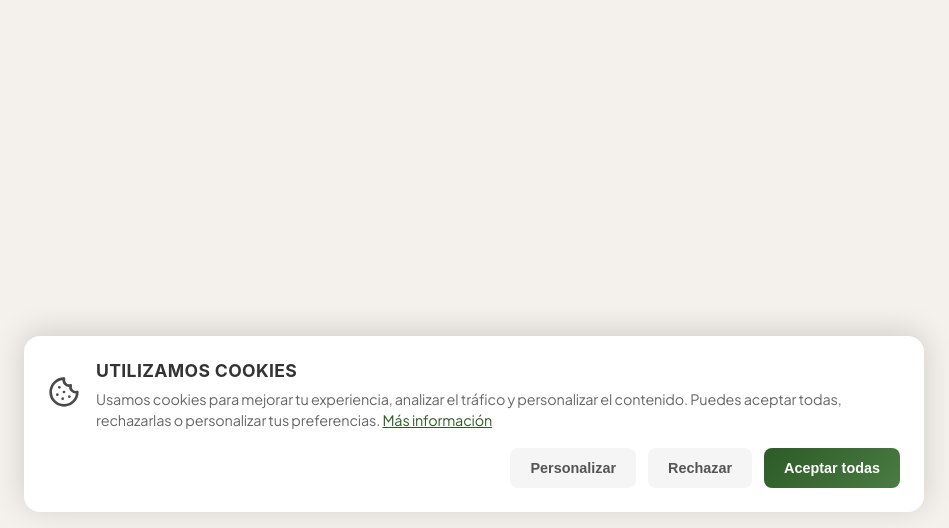
Test case: CookieBanner › shows preferences panel when customize is clicked
Click the button "Personalizar".
click(573, 468)  # box [510,448,636,488]
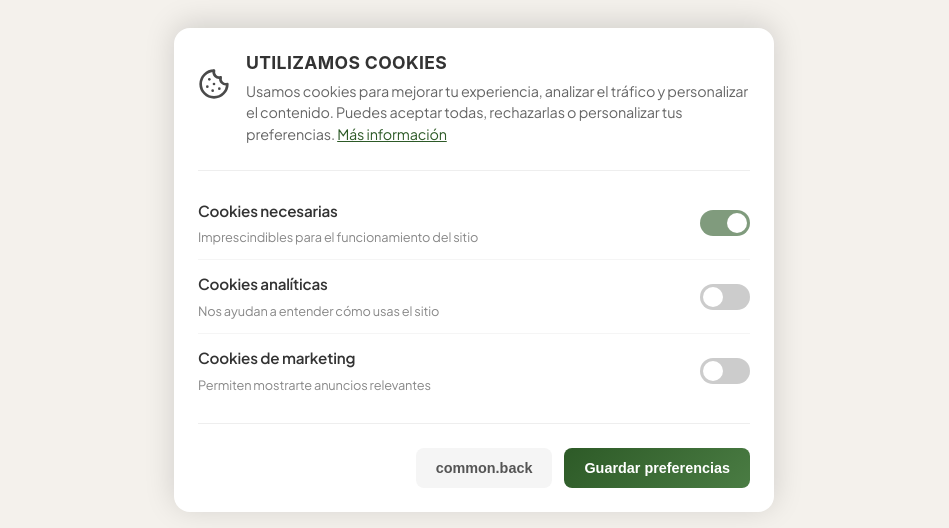
Check: the text "Cookies necesarias" is shown, box [198,201,338,220]
Check: the text "Cookies analíticas" is shown, box [198,274,328,293]
Check: the button "Guardar preferencias" is shown, box [564,448,750,488]
